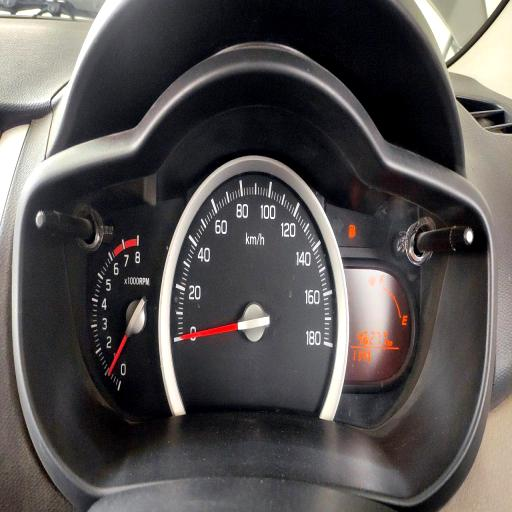tachometer: (88, 234, 158, 401)
